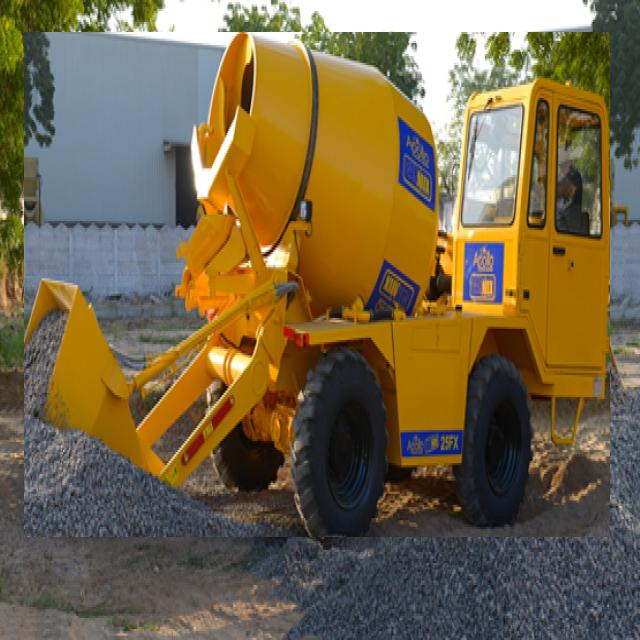truck: (24, 33, 610, 537)
